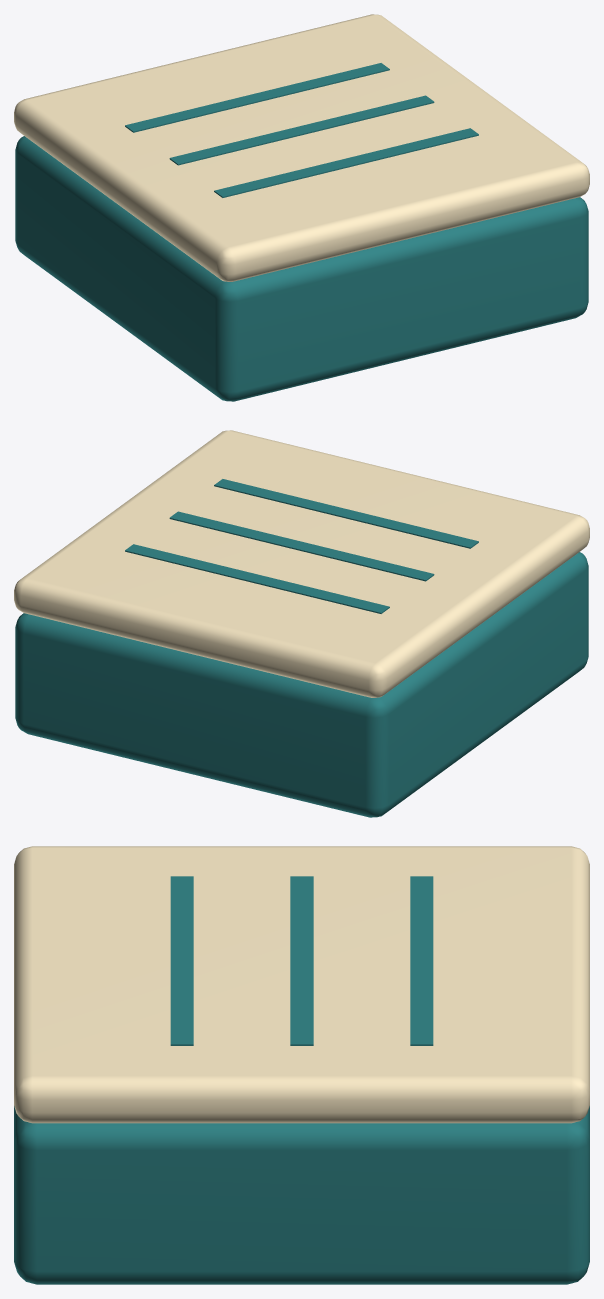
The model's file is lava-lift-3-v1.glb.
The picture shows the model from 3 angles, top to bottom: view 1: azimuth 30°, elevation 25°; view 2: azimuth 150°, elevation 25°; view 3: azimuth 270°, elevation 25°; orthographic projection. The views are drawn at different scales.
Parts seen in each view (by area): view 1: lava-lift-3-v1.001; view 2: lava-lift-3-v1.001; view 3: lava-lift-3-v1.001.
Part boxes in pixels (left/top/right/bottom): lava-lift-3-v1.001: left=14, top=14, right=589, bottom=401; lava-lift-3-v1.001: left=14, top=430, right=589, bottom=817; lava-lift-3-v1.001: left=14, top=846, right=589, bottom=1284.
Size of the model in its own units: 2.5 by 1.01 by 2.5.
